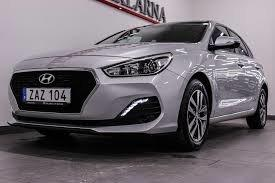license-plates: (25, 88, 71, 102)
